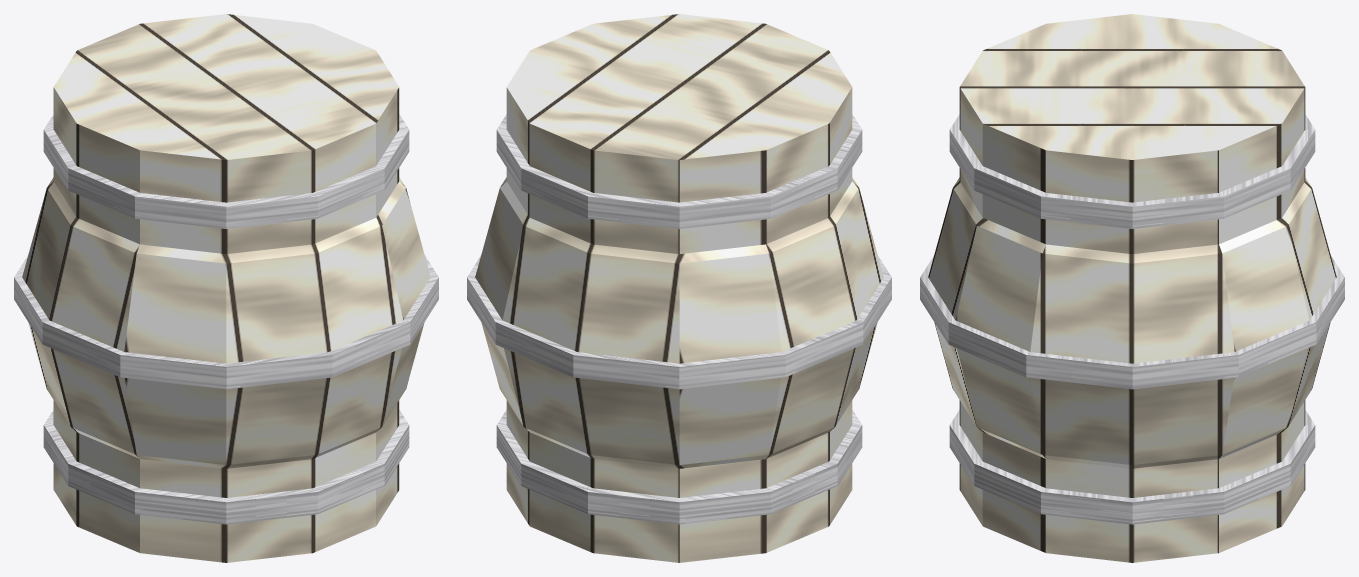
File: barile.obj
The picture shows the model from 3 angles, left to right: view 1: azimuth 30°, elevation 25°; view 2: azimuth 150°, elevation 25°; view 3: azimuth 270°, elevation 25°; orthographic projection.
Parts seen in each view (by area): view 1: legno_000, metallo_001; view 2: legno_000, metallo_001; view 3: legno_000, metallo_001.
Part boxes in pixels (x1,y1,x2,y2): legno_000: (22,14,430,562); metallo_001: (14,114,438,524); legno_000: (475,14,883,562); metallo_001: (467,114,891,524); legno_000: (928,14,1336,562); metallo_001: (920,114,1344,524).
Size of the model in its own units: 0.86 by 0.9 by 0.86.
Materials: 2 (2 with a texture image).
